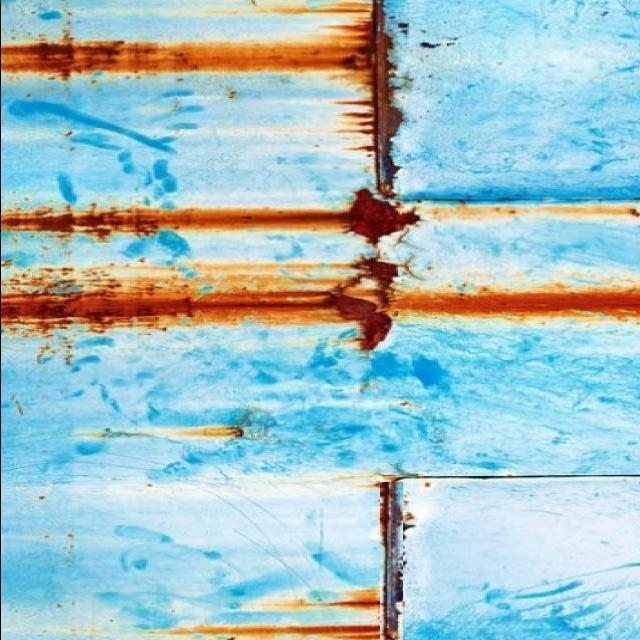Pitting Corrosion: (0, 0, 639, 353), (171, 474, 430, 639), (430, 201, 639, 218), (151, 425, 244, 438)
